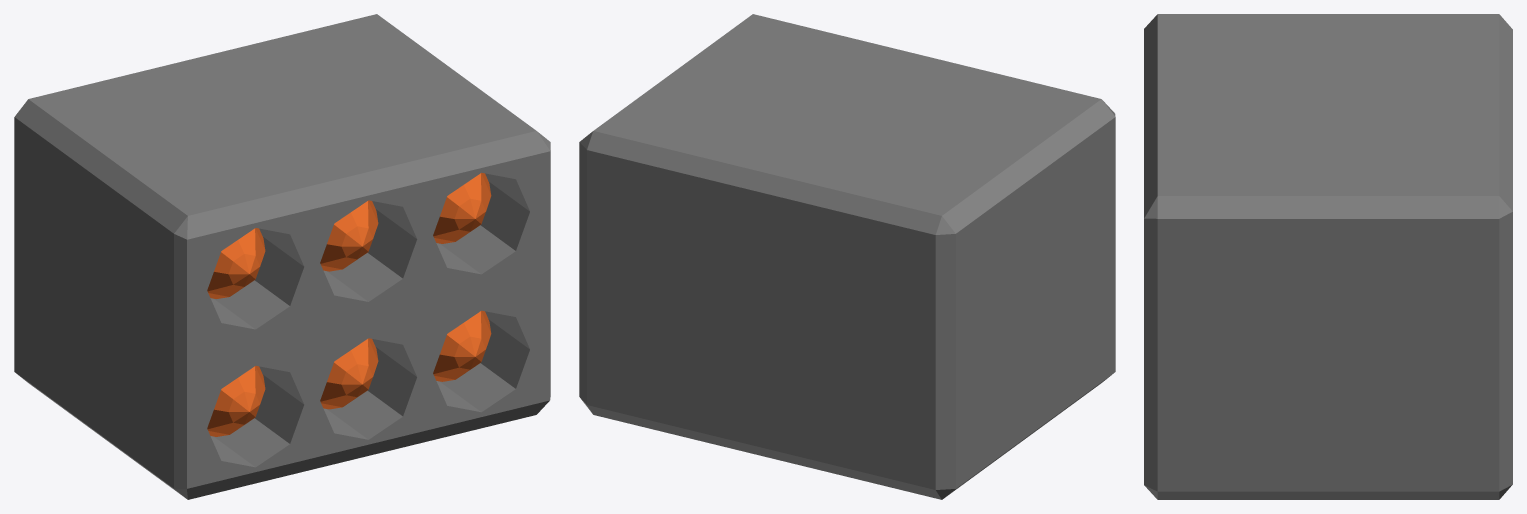
The model's file is MissilePod.fbx.
The picture shows the model from 3 angles, left to right: view 1: azimuth 30°, elevation 25°; view 2: azimuth 150°, elevation 25°; view 3: azimuth 270°, elevation 25°; orthographic projection. The views are drawn at different scales.
Parts seen in each view (by area): view 1: MissilePod; view 2: MissilePod; view 3: MissilePod.
Boxes of the visible parts, left/top/right/bottom form: MissilePod: left=14, top=14, right=550, bottom=499; MissilePod: left=579, top=14, right=1115, bottom=499; MissilePod: left=1144, top=14, right=1512, bottom=499.
Size of the model in its own units: 200 by 159 by 144.
